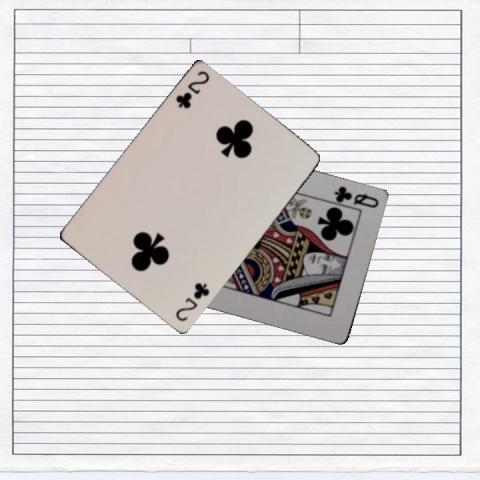2c: (173, 280, 211, 324), (173, 68, 211, 111)
Qc: (331, 183, 381, 209)
